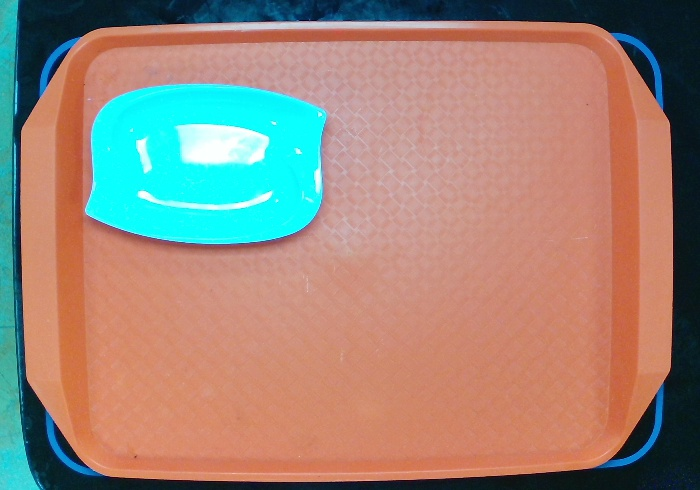RJxy-Jian_Jiao_Fang_Die: (83, 79, 329, 247)
